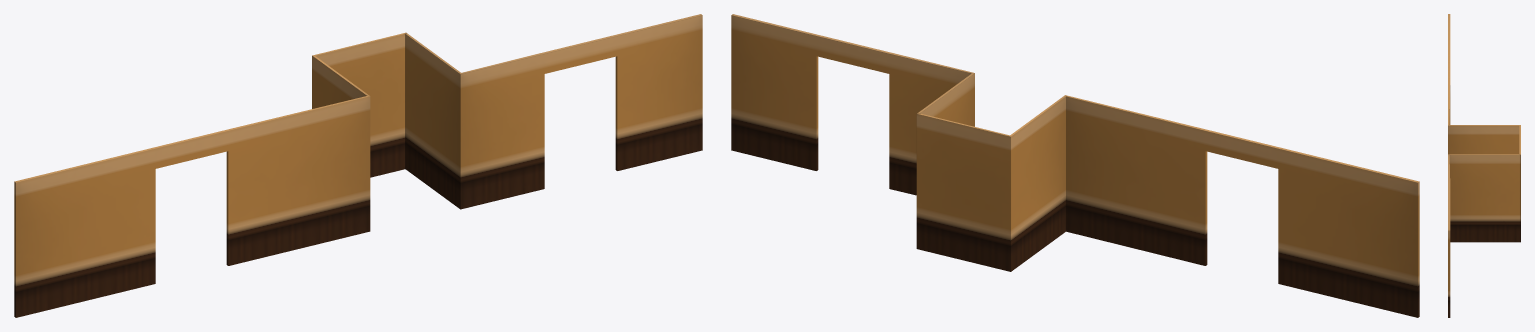
The model's file is Wall_Door_03.FBX.
3 views of the same model, side by side, from view 1: azimuth 30°, elevation 25°; view 2: azimuth 150°, elevation 25°; view 3: azimuth 270°, elevation 25° (orthographic). The views are drawn at different scales.
Parts seen in each view (by area): view 1: Wall_Door_03; view 2: Wall_Door_03; view 3: Wall_Door_03.
Part boxes in pixels (<box>): Wall_Door_03: <box>14,14,702,317</box>; Wall_Door_03: <box>731,14,1419,317</box>; Wall_Door_03: <box>1448,14,1520,317</box>.
Bounding box in the file's own units: 486 × 91.46 × 68.98.
